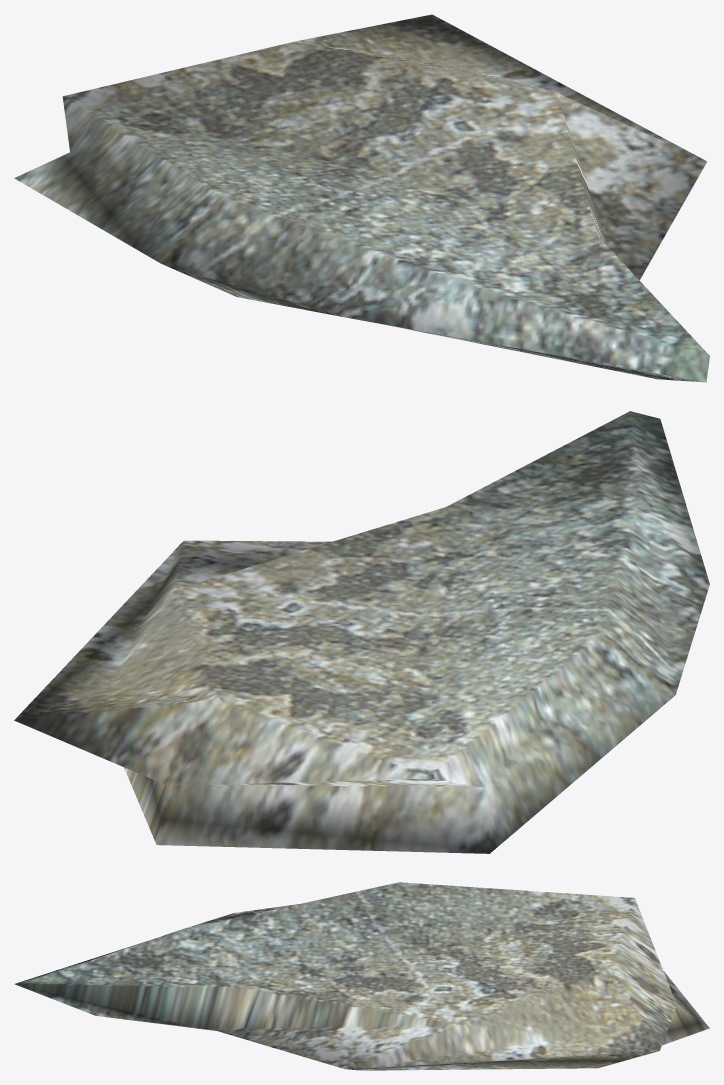
File: medium_stone.fbx
3 renders of one model, top to bottom at view 1: azimuth 30°, elevation 25°; view 2: azimuth 150°, elevation 25°; view 3: azimuth 270°, elevation 25°, orthographic. The views are drawn at different scales.
Parts seen in each view (by area): view 1: Cube; view 2: Cube; view 3: Cube.
Part boxes in pixels (x1,y1,x2,y2): Cube: (14, 14, 709, 382); Cube: (14, 411, 709, 853); Cube: (14, 882, 709, 1070).
Size of the model in its own units: 57.84 by 11.04 by 95.09.
